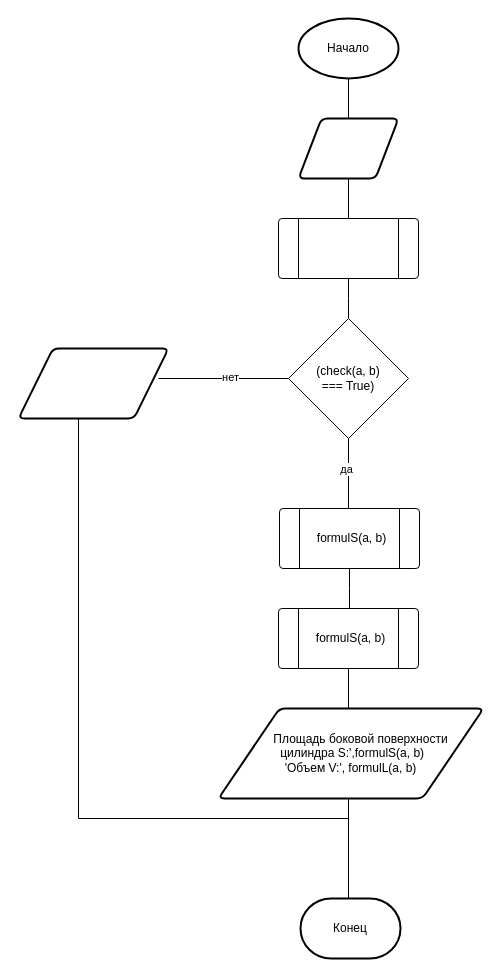
The diagram is 501 pixels wide and 976 high, and some of its shapes have lost their labels. The centre of each missing label's shape, as x and y in pixels:
(a, b): the point at 348,148
check(a, b): the point at 348,248
Вывести "Не тот тип": the point at 93,383
